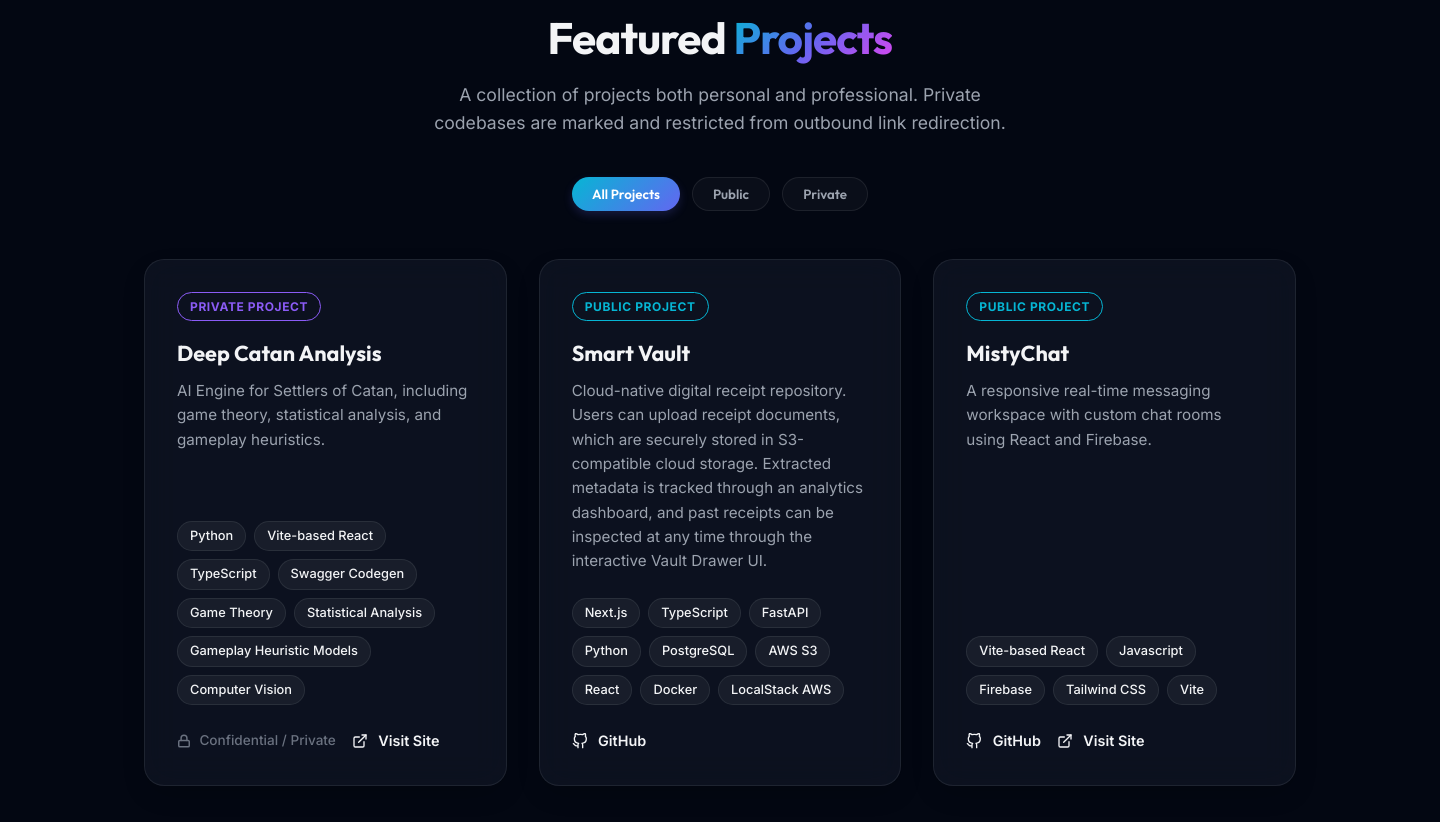
Test: Projects Component › filters projects by private category
Click the button with test id "filter-btn-private" at (825, 194), box [782, 177, 868, 211]
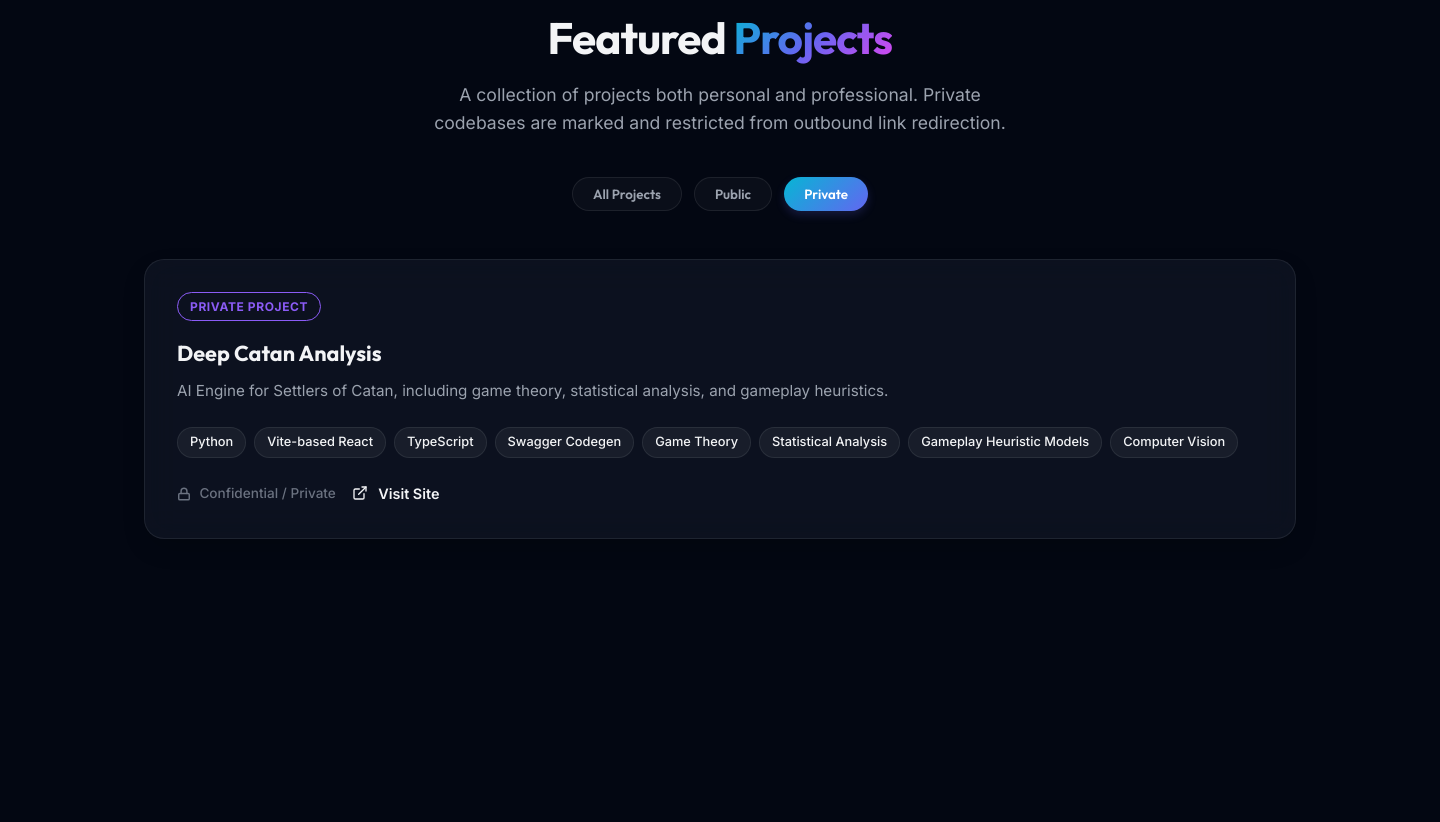
Expected: the heading "Deep Catan Analysis" is shown, [177, 339, 382, 367]
Expected: the heading "MistyChat" is gone
Expected: the heading "Smart Vault" is gone
